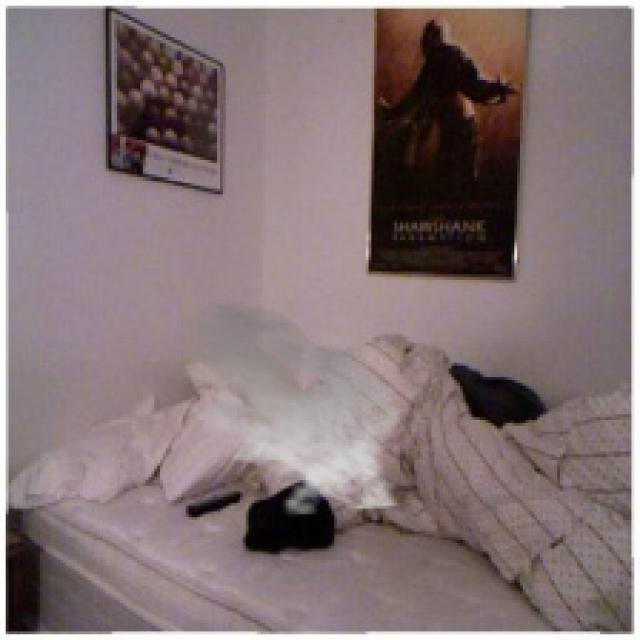smoke: (160, 300, 411, 517)
